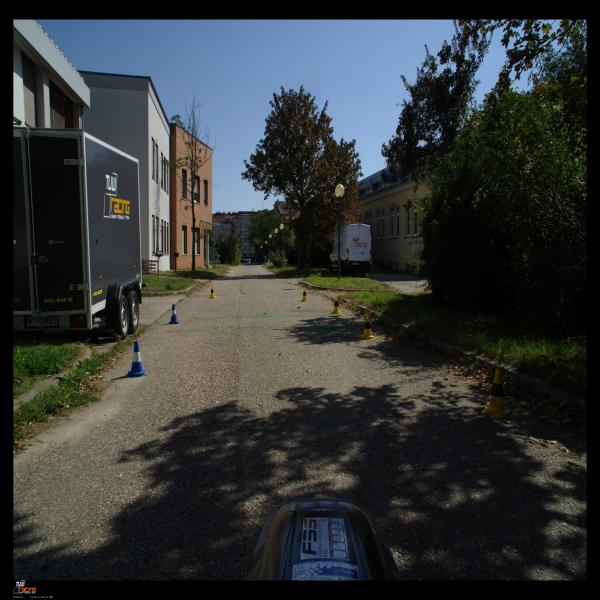blue_cone: (125, 341, 148, 378), (168, 304, 179, 324)
yellow_cone: (481, 368, 514, 419), (360, 314, 375, 340), (331, 296, 341, 314), (301, 287, 309, 302), (209, 286, 216, 299)
